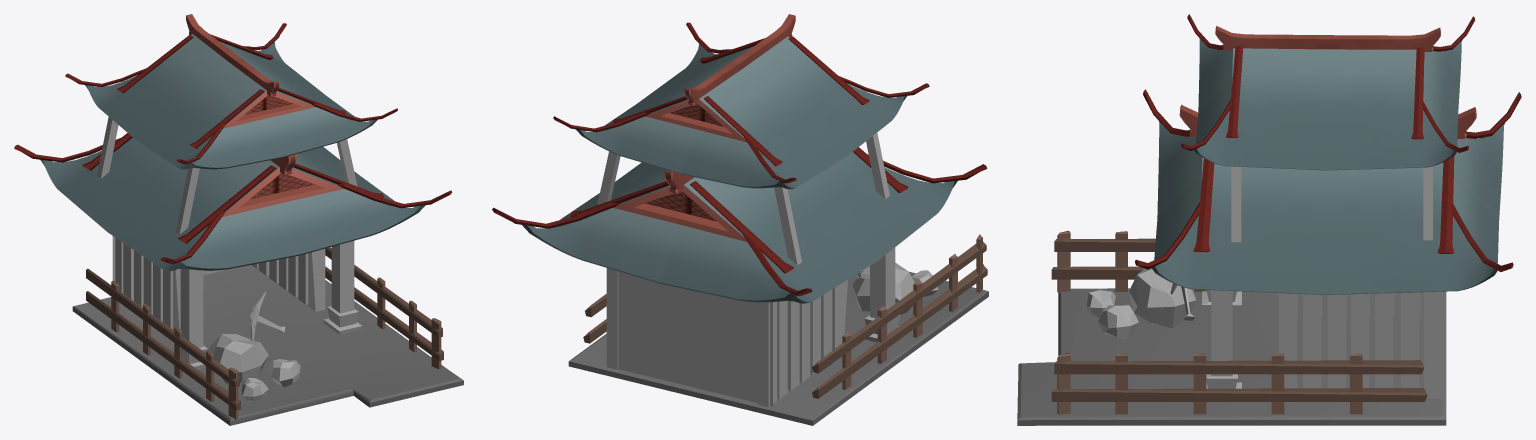
The model's file is mine_3lvl.fbx.
The picture shows the model from 3 angles, left to right: view 1: azimuth 30°, elevation 25°; view 2: azimuth 150°, elevation 25°; view 3: azimuth 270°, elevation 25°; orthographic projection. The views are drawn at different scales.
Visible parts, largest first — view 1: polySurface58; view 2: polySurface58; view 3: polySurface58.
Boxes of the visible parts, x1=… form: polySurface58: x1=14, y1=14, x2=463, y2=425; polySurface58: x1=492, y1=14, x2=988, y2=425; polySurface58: x1=1017, y1=14, x2=1521, y2=425.
Size of the model in its own units: 5.36 by 4.73 by 6.47.
